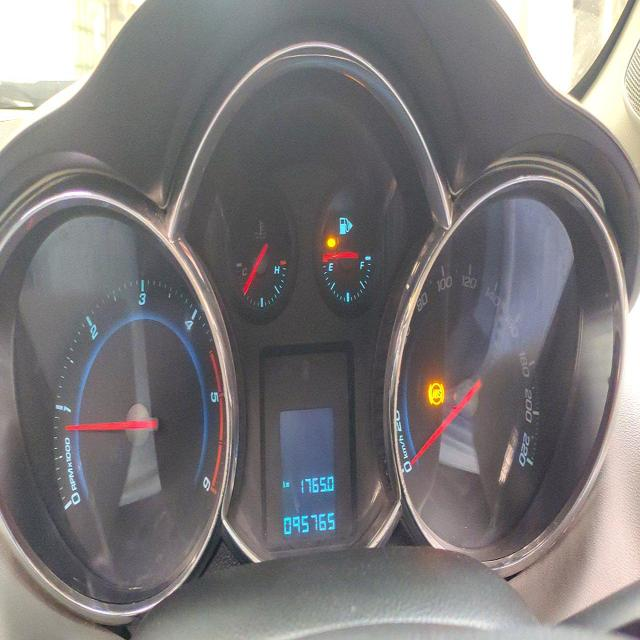odometer: (282, 505, 337, 540)
